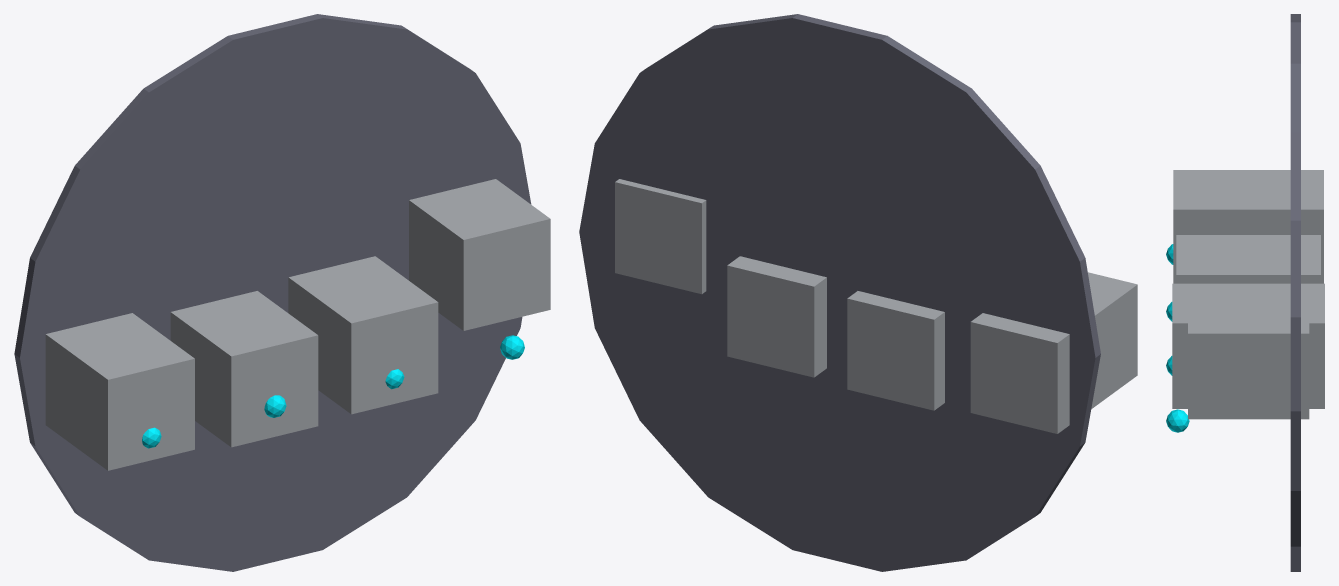
The model's file is 02_display_prop_cluster.glb.
3 views of the same model, side by side, from view 1: azimuth 30°, elevation 25°; view 2: azimuth 150°, elevation 25°; view 3: azimuth 270°, elevation 25° (orthographic). The views are drawn at different scales.
Parts seen in each view (by area): view 1: scatter_base, tech_crate_0, tech_crate_3, tech_crate_2, tech_crate_1; view 2: scatter_base, tech_crate_0, tech_crate_2, tech_crate_1, tech_crate_3; view 3: tech_crate_3, tech_crate_0, tech_crate_1, scatter_base, tech_crate_2, status_light_3.
Boxes of the visible parts, x1,y1,x2,y2 form: scatter_base: (14, 14, 531, 571); tech_crate_0: (45, 313, 194, 470); tech_crate_3: (409, 179, 550, 330); tech_crate_2: (288, 256, 438, 414); tech_crate_1: (170, 291, 318, 447); scatter_base: (579, 14, 1100, 571); tech_crate_0: (970, 272, 1137, 433); tech_crate_2: (727, 256, 826, 377); tech_crate_1: (847, 291, 944, 410); tech_crate_3: (615, 179, 706, 294); tech_crate_3: (1188, 294, 1309, 419); tech_crate_0: (1173, 170, 1323, 283); tech_crate_1: (1176, 235, 1320, 283); scatter_base: (1290, 14, 1300, 571); tech_crate_2: (1172, 283, 1324, 408); status_light_3: (1166, 409, 1189, 432).
Bounding box in the file's own units: 1.9 × 1.87 × 0.539.
